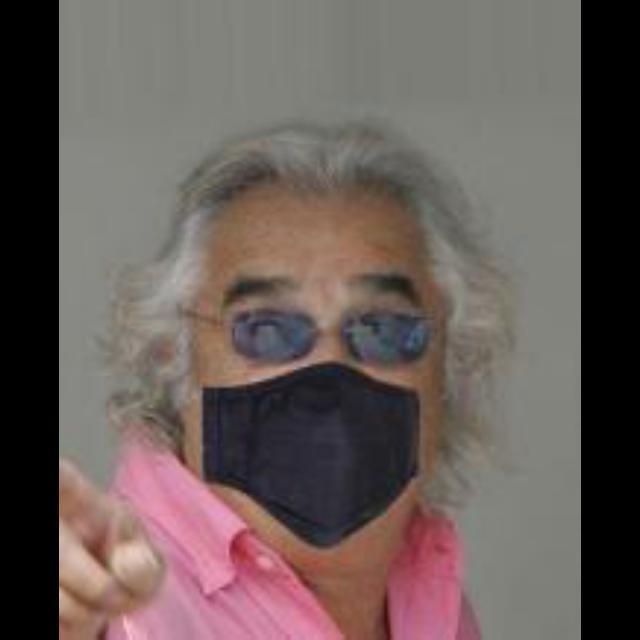suspicion: (82, 158, 530, 546)
